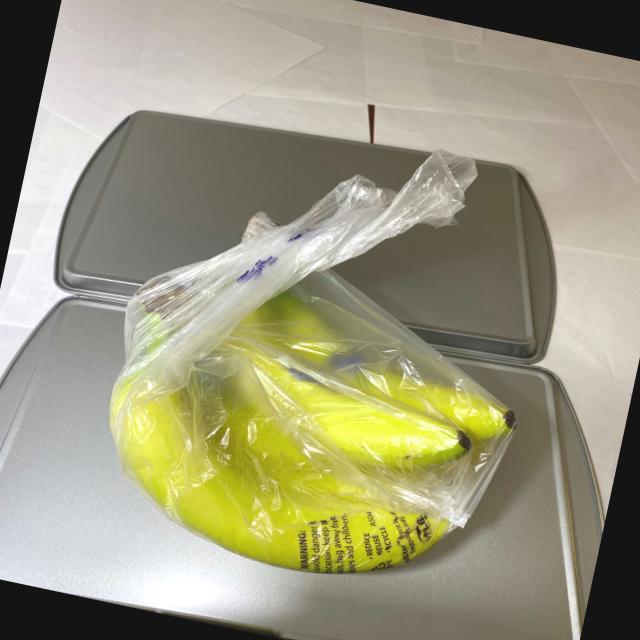banana: (74, 245, 534, 612)
